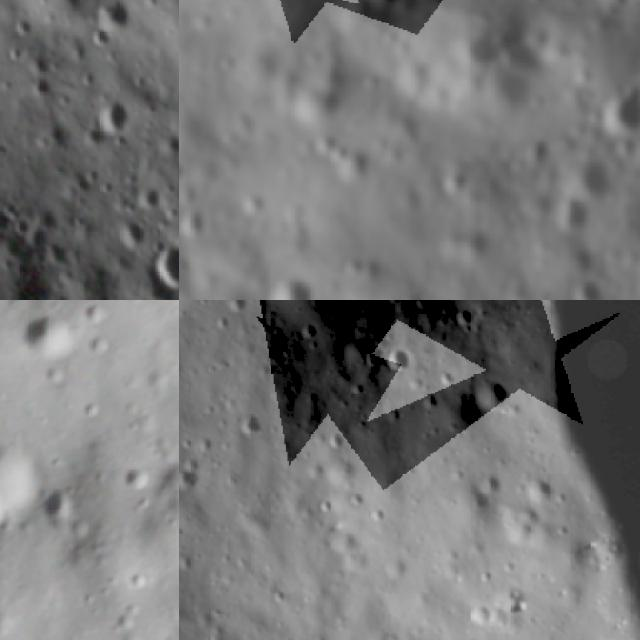crater: (0, 432, 43, 529), (18, 304, 84, 363), (467, 370, 519, 420), (599, 78, 640, 138), (574, 156, 624, 200), (378, 334, 423, 379), (110, 203, 146, 254), (98, 91, 135, 140), (551, 192, 593, 235), (266, 267, 319, 300), (154, 232, 179, 296), (40, 476, 74, 520), (352, 332, 389, 372), (96, 0, 139, 33), (568, 267, 610, 300), (524, 466, 558, 506), (122, 459, 158, 494), (179, 452, 205, 497), (237, 408, 272, 440), (0, 69, 14, 138), (323, 422, 352, 453), (467, 599, 498, 628), (296, 315, 326, 344), (31, 70, 57, 101), (481, 467, 505, 498), (13, 12, 40, 39), (369, 503, 390, 530), (217, 300, 252, 316), (0, 196, 15, 233), (350, 484, 368, 506), (272, 583, 290, 605), (320, 493, 333, 517)
